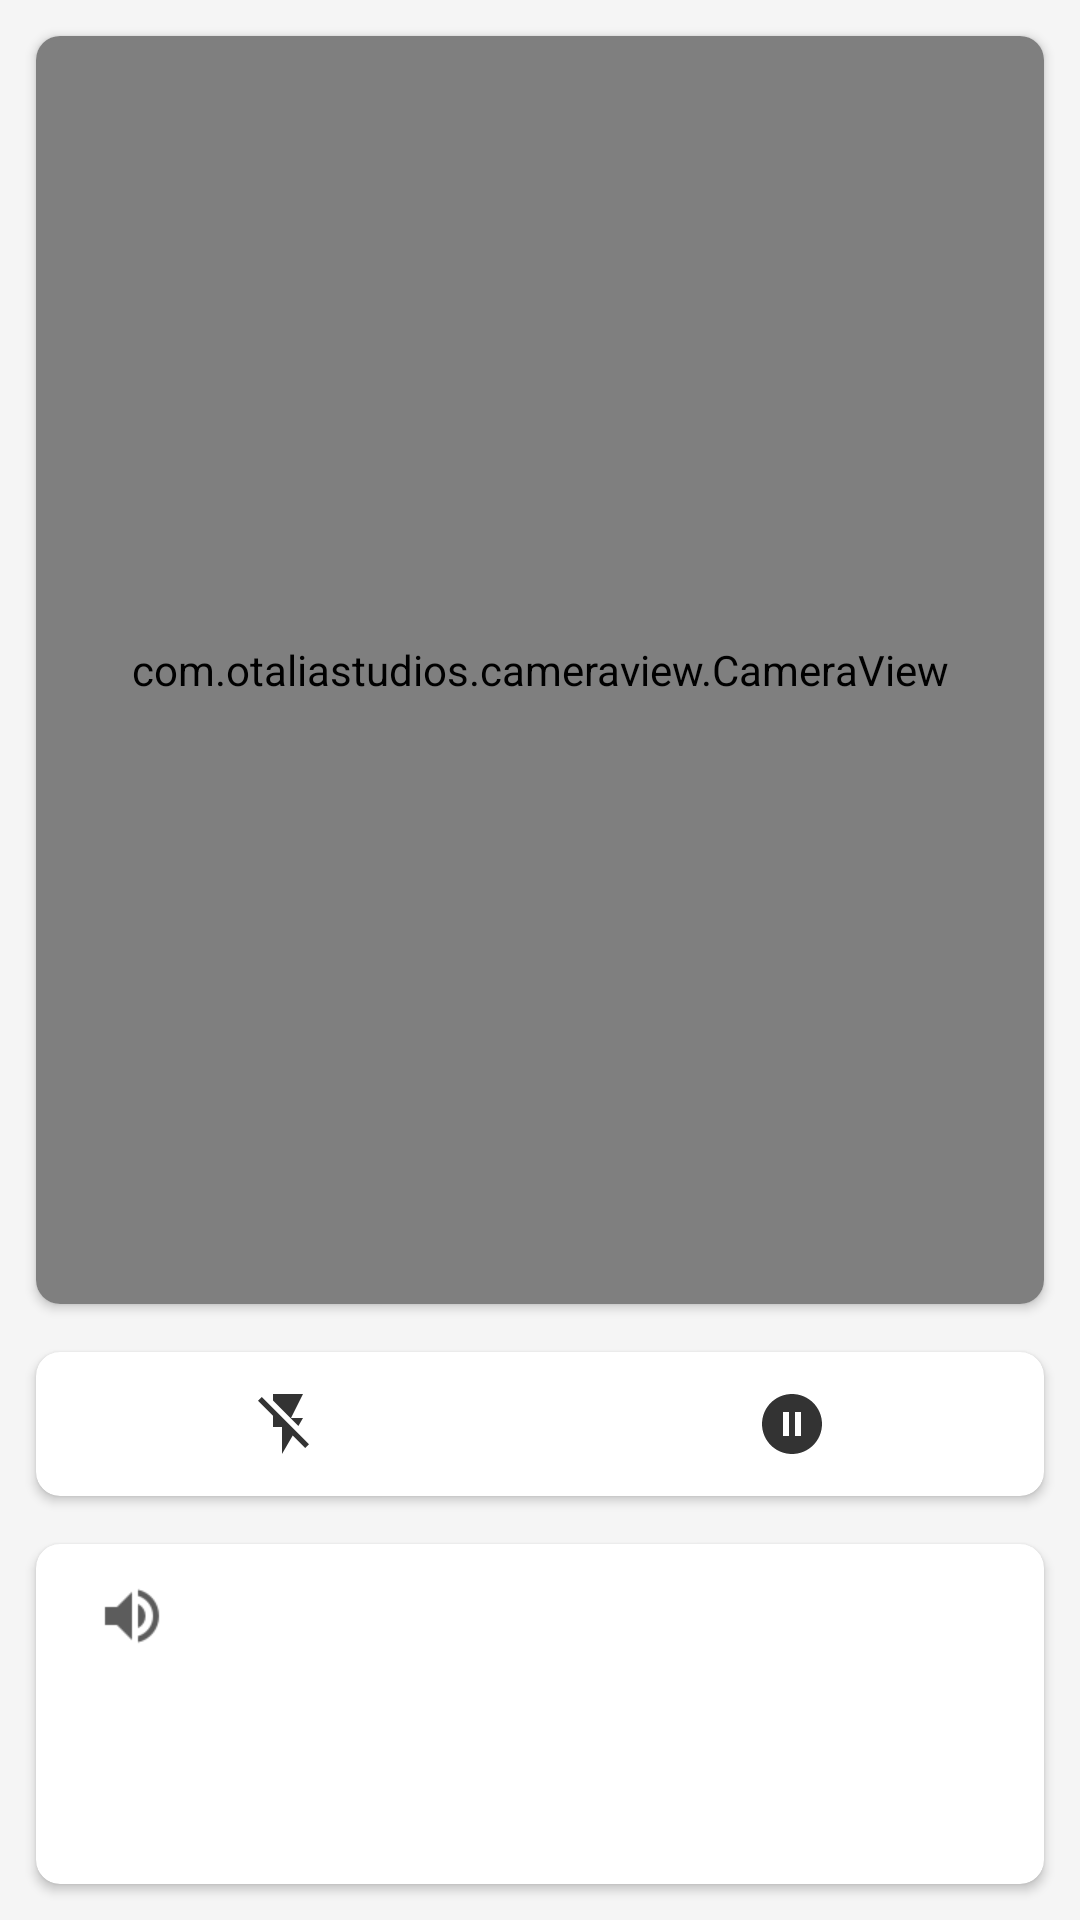

Icon bounding boxes for this 1080 × 1920 phone screenshot, format (x1, y1, x2, y2):
pase circle: (762, 1394, 822, 1454)
